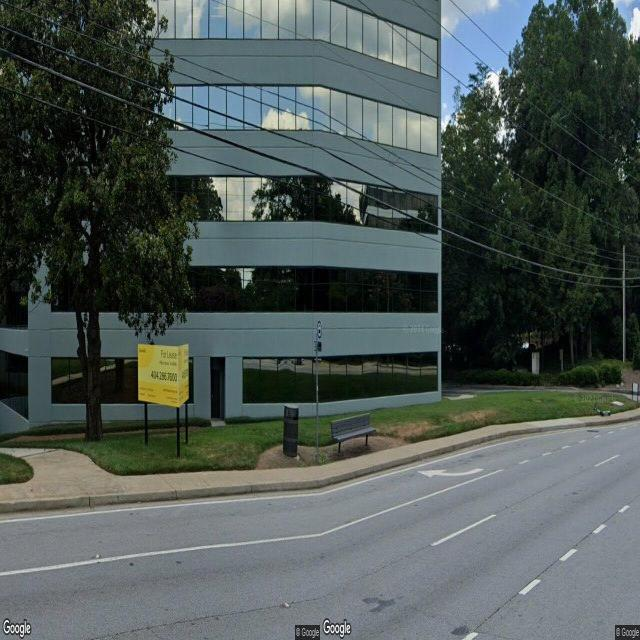seating: (331, 412, 376, 456)
trash_can: (282, 404, 300, 458)
